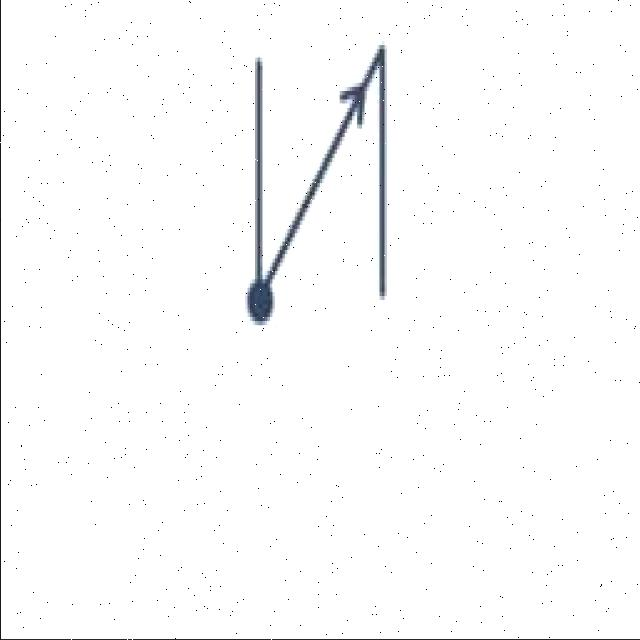Check Valve: (182, 16, 398, 392)
